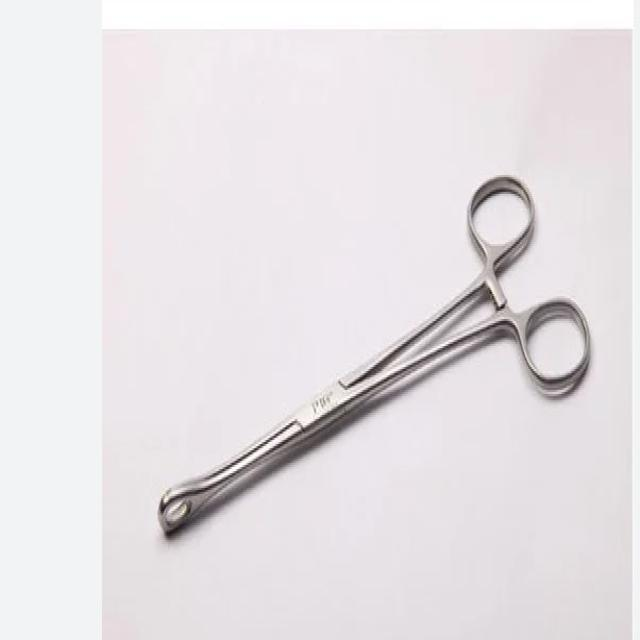Sponge Holding Forceps: (150, 140, 598, 550)
